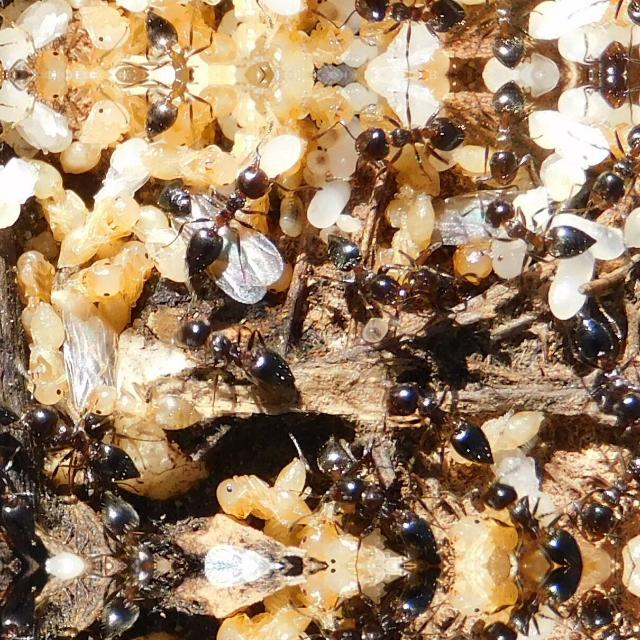Crematogaster: (146, 188, 282, 306), (170, 146, 272, 282), (166, 312, 306, 393), (382, 378, 506, 468), (467, 191, 599, 265), (560, 306, 640, 428), (328, 472, 437, 560), (346, 102, 472, 178), (21, 404, 147, 478), (485, 474, 587, 564), (485, 565, 587, 640), (327, 570, 436, 640), (469, 84, 535, 196), (569, 452, 639, 538), (346, 0, 472, 46), (138, 74, 216, 146), (138, 2, 216, 74), (99, 489, 168, 565), (98, 565, 167, 640), (333, 240, 403, 304), (469, 0, 535, 64), (593, 125, 639, 208), (569, 592, 639, 640), (593, 0, 639, 23)
